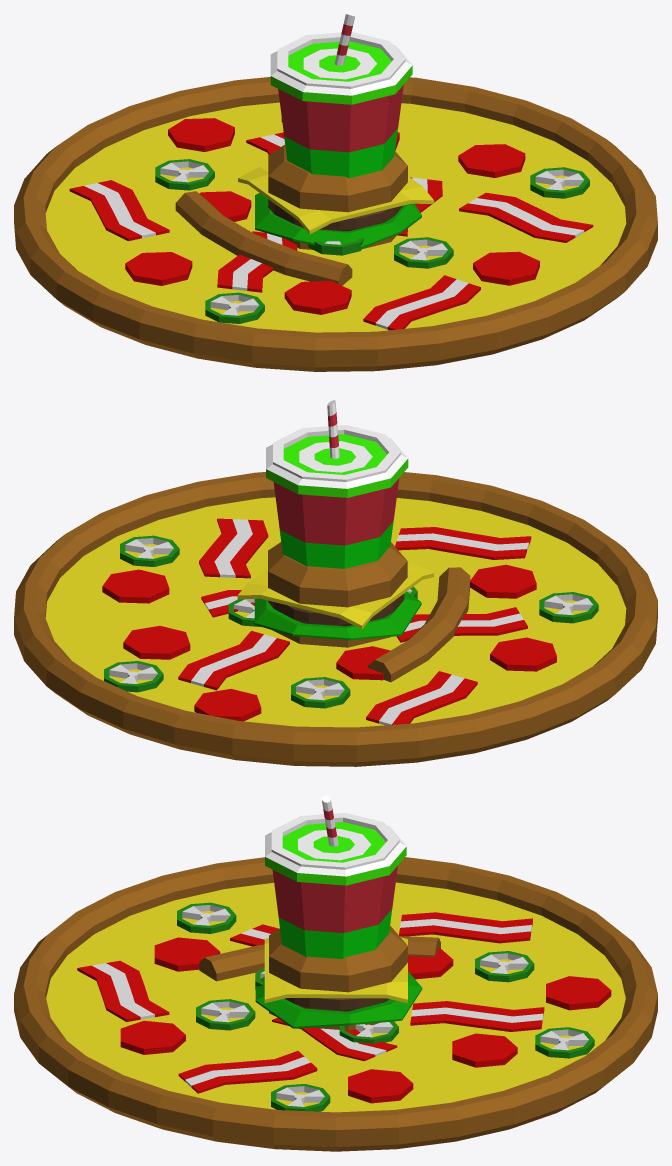
Rendered from Food.fbx.
The picture shows the model from 3 angles, top to bottom: view 1: azimuth 30°, elevation 25°; view 2: azimuth 150°, elevation 25°; view 3: azimuth 270°, elevation 25°; orthographic projection.
Parts seen in each view (by area): view 1: Pizza, Drink, Hamburger, PizzaSlice; view 2: Pizza, Drink, Hamburger, PizzaSlice; view 3: Pizza, Drink, Hamburger, PizzaSlice.
Part boxes in pixels (x1=…): Pizza: x1=14, y1=77, x2=657, y2=371; Drink: x1=270, y1=14, x2=412, y2=178; Hamburger: x1=238, y1=144, x2=434, y2=249; PizzaSlice: x1=175, y1=177, x2=442, y2=285; Pizza: x1=14, y1=472, x2=657, y2=766; Drink: x1=266, y1=400, x2=408, y2=568; Hamburger: x1=237, y1=542, x2=433, y2=647; PizzaSlice: x1=201, y1=567, x2=470, y2=682; Pizza: x1=14, y1=857, x2=657, y2=1151; Drink: x1=265, y1=795, x2=406, y2=959; Hamburger: x1=255, y1=926, x2=422, y2=1030; PizzaSlice: x1=199, y1=936, x2=440, y2=1061.
Bounding box in the file's own units: 3.06 × 1.2 × 3.06.
